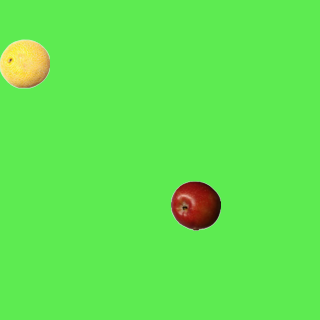Apple Braeburn: (170, 180, 220, 230)
Cantaloupe 1: (0, 38, 49, 88)
